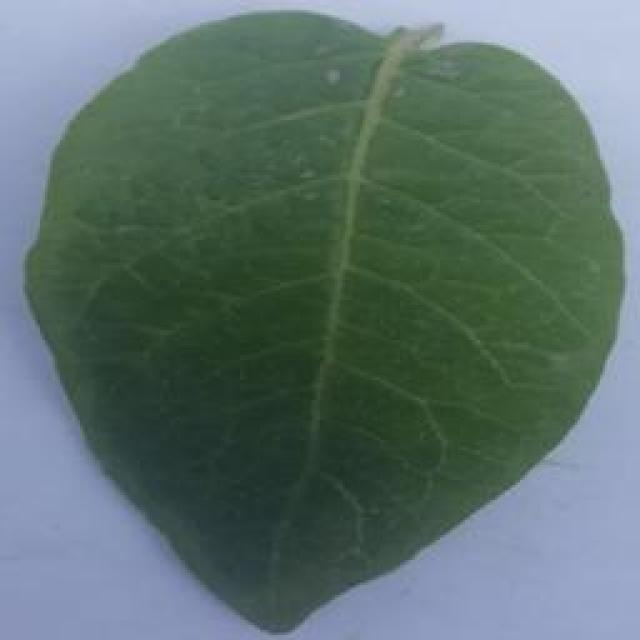Potato_Healthy: (24, 11, 617, 636)
